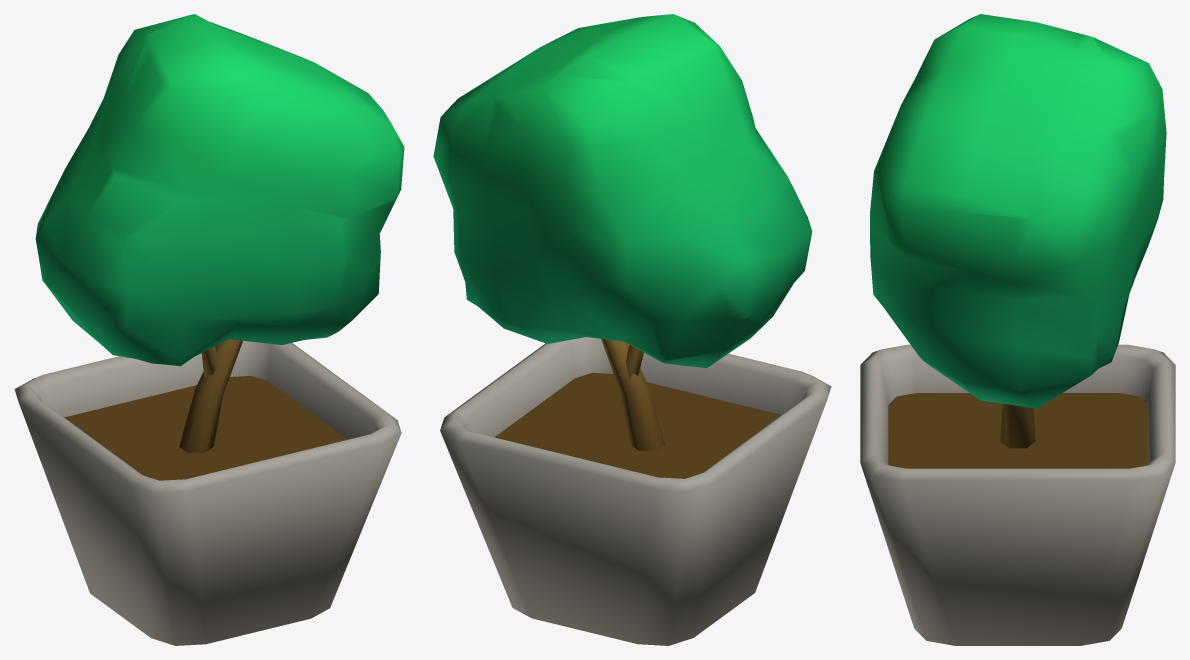
File: plant.fbx
3 views of the same model, side by side, from view 1: azimuth 30°, elevation 25°; view 2: azimuth 150°, elevation 25°; view 3: azimuth 270°, elevation 25° (orthographic). The views are drawn at different scales.
Visible parts, largest first — view 1: plant; view 2: plant; view 3: plant.
Boxes of the visible parts, x1=… form: plant: x1=14, y1=14, x2=404, y2=645; plant: x1=433, y1=14, x2=831, y2=645; plant: x1=860, y1=14, x2=1175, y2=645.
Bounding box in the file's own units: 79.92 × 65.94 × 132.
